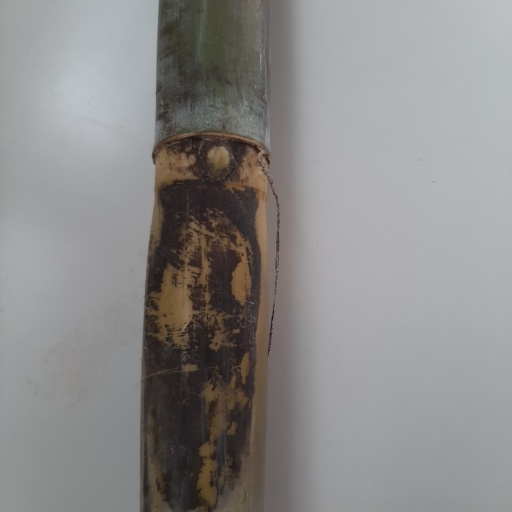Bud: (200, 142, 234, 178)
